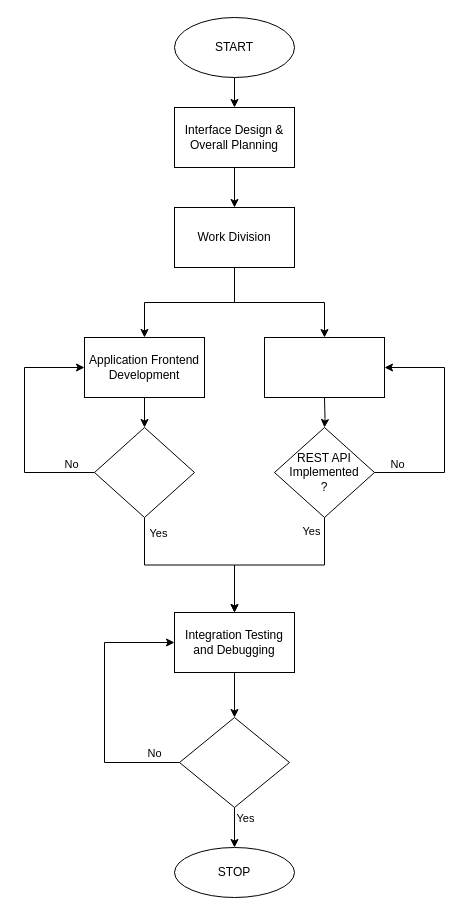
Some shapes in this 470 by 915 pixel diagram are drawn without their labels. The centre of each missing label's shape, as x and y in pixels:
Application Backend Development: [324,367]
Application Complete?: [234,762]
UI Completed?: [144,472]
